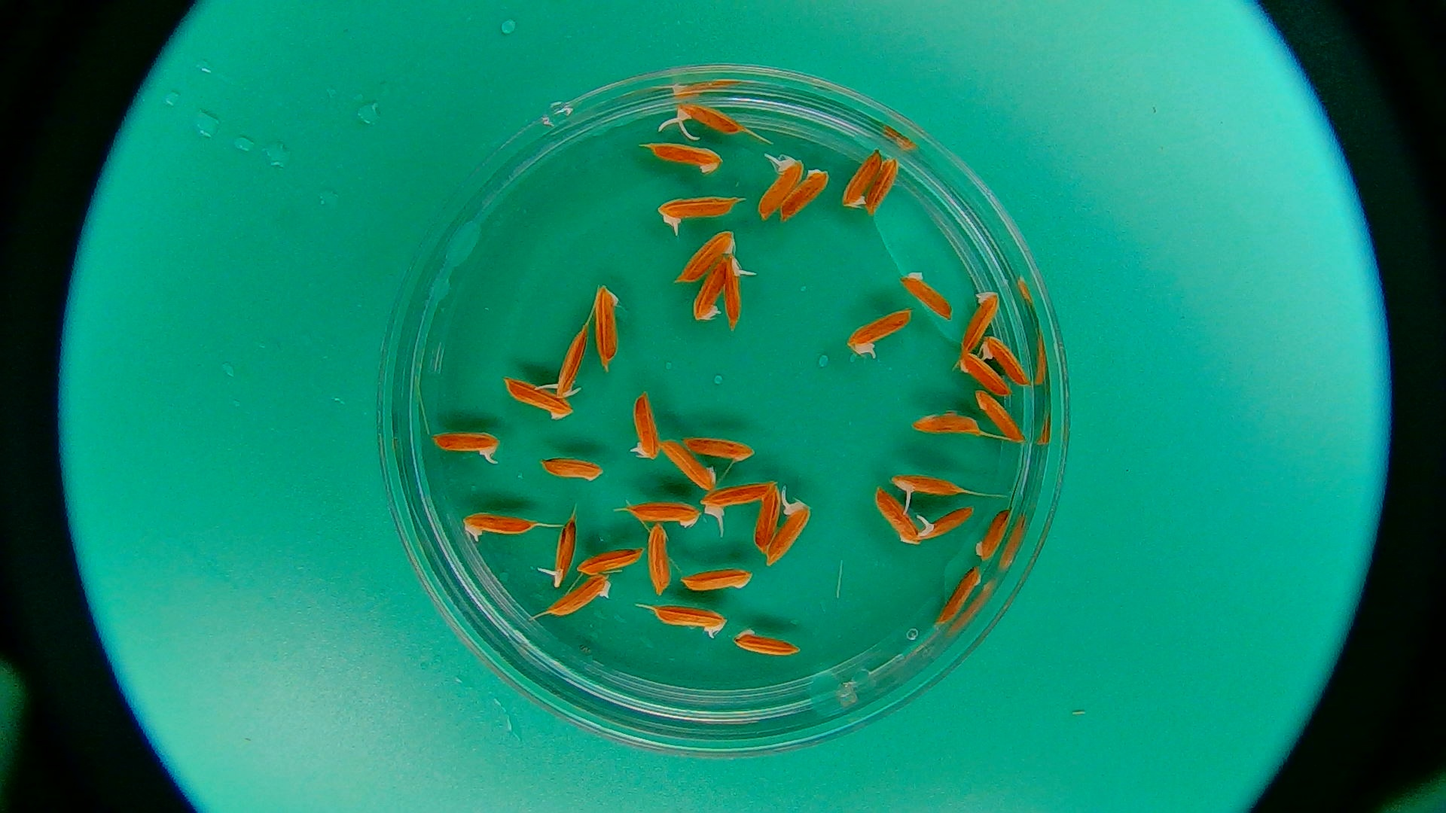no: (656, 435, 715, 494), (504, 375, 579, 420), (929, 562, 981, 626), (972, 387, 1027, 446), (679, 228, 733, 282), (982, 334, 1033, 391), (691, 248, 727, 328), (680, 426, 758, 462), (960, 290, 1003, 355), (839, 149, 883, 212), (860, 151, 902, 217), (956, 349, 1010, 400), (550, 574, 612, 618), (875, 485, 920, 545), (781, 165, 827, 223), (751, 478, 785, 554), (905, 271, 955, 322), (648, 140, 724, 173), (592, 288, 623, 361), (627, 497, 700, 528), (461, 510, 532, 541), (977, 503, 1014, 561), (683, 568, 758, 596), (575, 547, 646, 574), (645, 525, 673, 592), (734, 632, 800, 657), (915, 414, 977, 440), (535, 456, 601, 480)
yes: (552, 321, 590, 398), (846, 308, 913, 351), (758, 153, 803, 214), (767, 501, 810, 564), (705, 480, 776, 513), (915, 504, 978, 541), (886, 473, 966, 501), (676, 103, 741, 136), (432, 428, 500, 459), (660, 195, 731, 221), (657, 605, 729, 629), (630, 397, 657, 461), (553, 517, 578, 583), (722, 254, 746, 322)
